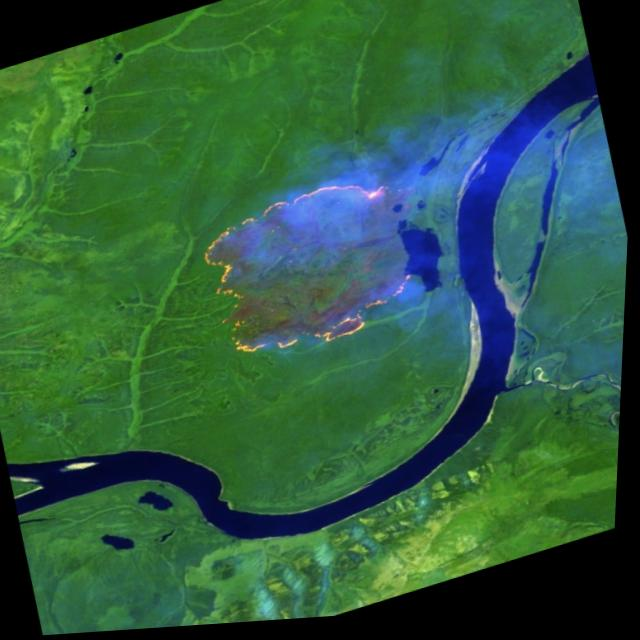fire: (190, 154, 448, 385)
